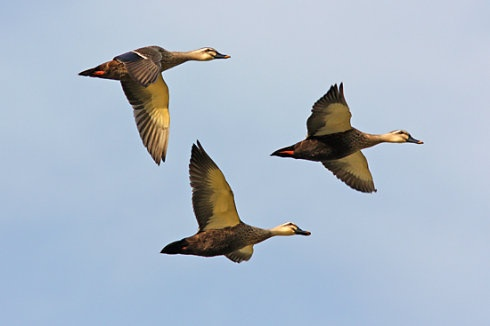bird: (73, 42, 234, 167), (158, 141, 312, 261), (268, 80, 424, 195)
